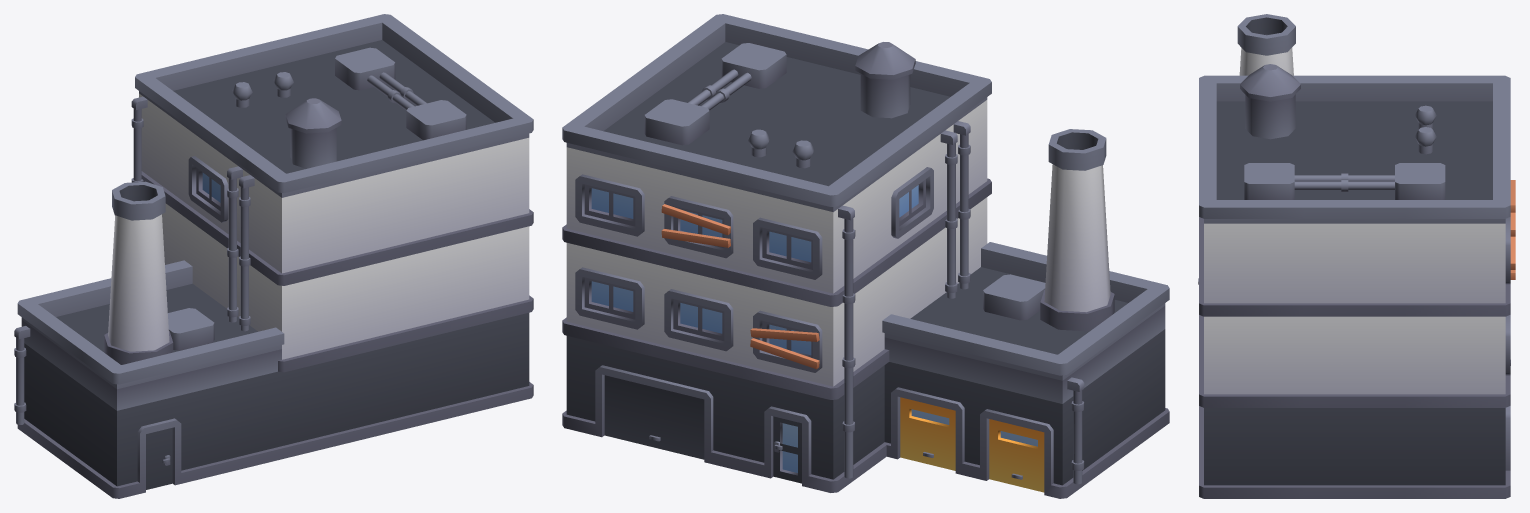
File: kenney-industrial_building-b.glb
3 renders of one model, left to right at view 1: azimuth 30°, elevation 25°; view 2: azimuth 150°, elevation 25°; view 3: azimuth 270°, elevation 25°, orthographic. The views are drawn at different scales.
Parts seen in each view (by area): view 1: building-b; view 2: building-b; view 3: building-b.
Boxes of the visible parts, box(x1,y1,x2,y2) form: building-b: box(14, 14, 533, 498); building-b: box(562, 14, 1169, 498); building-b: box(1198, 14, 1515, 498).
Size of the model in its own units: 2.08 by 1.47 by 1.26.
Materials: 2 (2 with a texture image).
